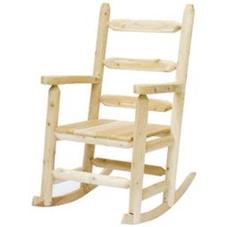chair: (36, 0, 218, 225)
